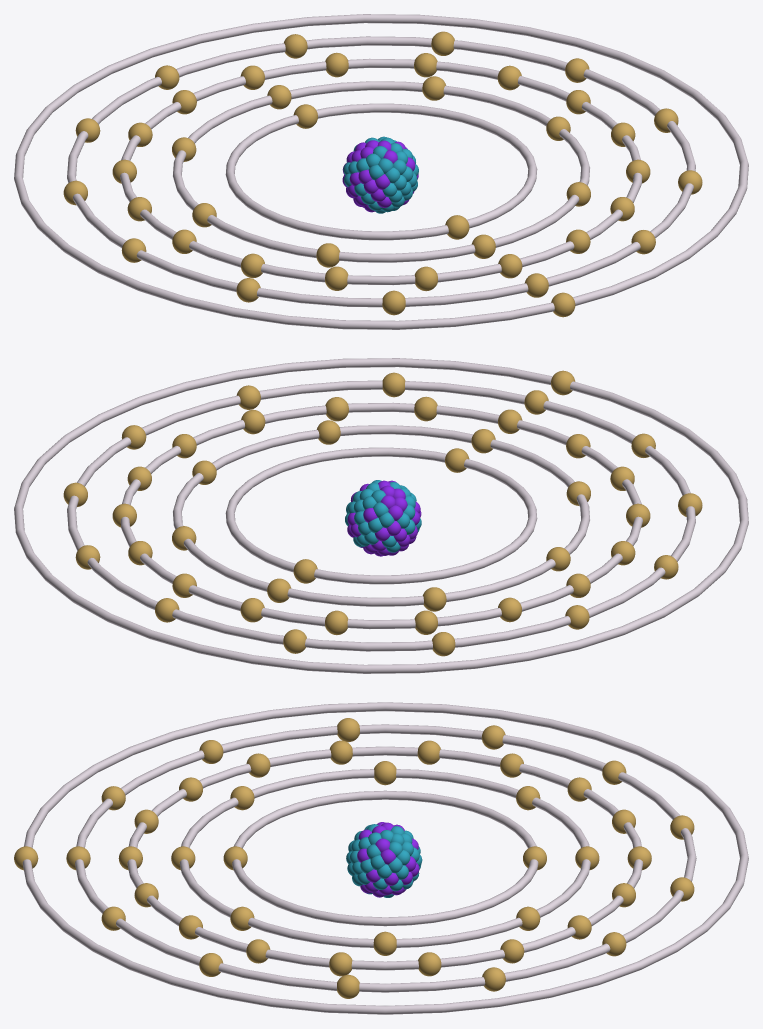
The model's file is molibdenio.glb.
The picture shows the model from 3 angles, top to bottom: view 1: azimuth 30°, elevation 25°; view 2: azimuth 150°, elevation 25°; view 3: azimuth 270°, elevation 25°; orthographic projection.
Visible parts, largest first — view 1: Orbita_5, Orbita_4, Orbita_3, Orbita_2, Orbita_1, Nucleo_Completo; view 2: Orbita_5, Orbita_4, Orbita_3, Orbita_2, Orbita_1, Nucleo_Completo; view 3: Orbita_5, Orbita_4, Orbita_3, Orbita_2, Orbita_1, Nucleo_Completo.
Part boxes in pixels (box(x1,y1,x2,y2)): Orbita_5: box(14, 14, 748, 329); Orbita_4: box(67, 36, 695, 307); Orbita_3: box(120, 58, 642, 285); Orbita_2: box(173, 81, 589, 262); Orbita_1: box(225, 103, 537, 240); Nucleo_Completo: box(342, 136, 418, 213); Orbita_5: box(14, 358, 748, 673); Orbita_4: box(67, 380, 695, 651); Orbita_3: box(120, 402, 642, 629); Orbita_2: box(173, 425, 589, 606); Orbita_1: box(225, 447, 537, 584); Nucleo_Completo: box(345, 480, 421, 556); Orbita_5: box(22, 702, 748, 1014); Orbita_4: box(75, 724, 696, 992); Orbita_3: box(127, 746, 643, 970); Orbita_2: box(179, 769, 590, 947); Orbita_1: box(232, 790, 538, 926); Nucleo_Completo: box(346, 822, 422, 897).
Size of the model in its own units: 4.86 by 0.5078 by 4.91.
